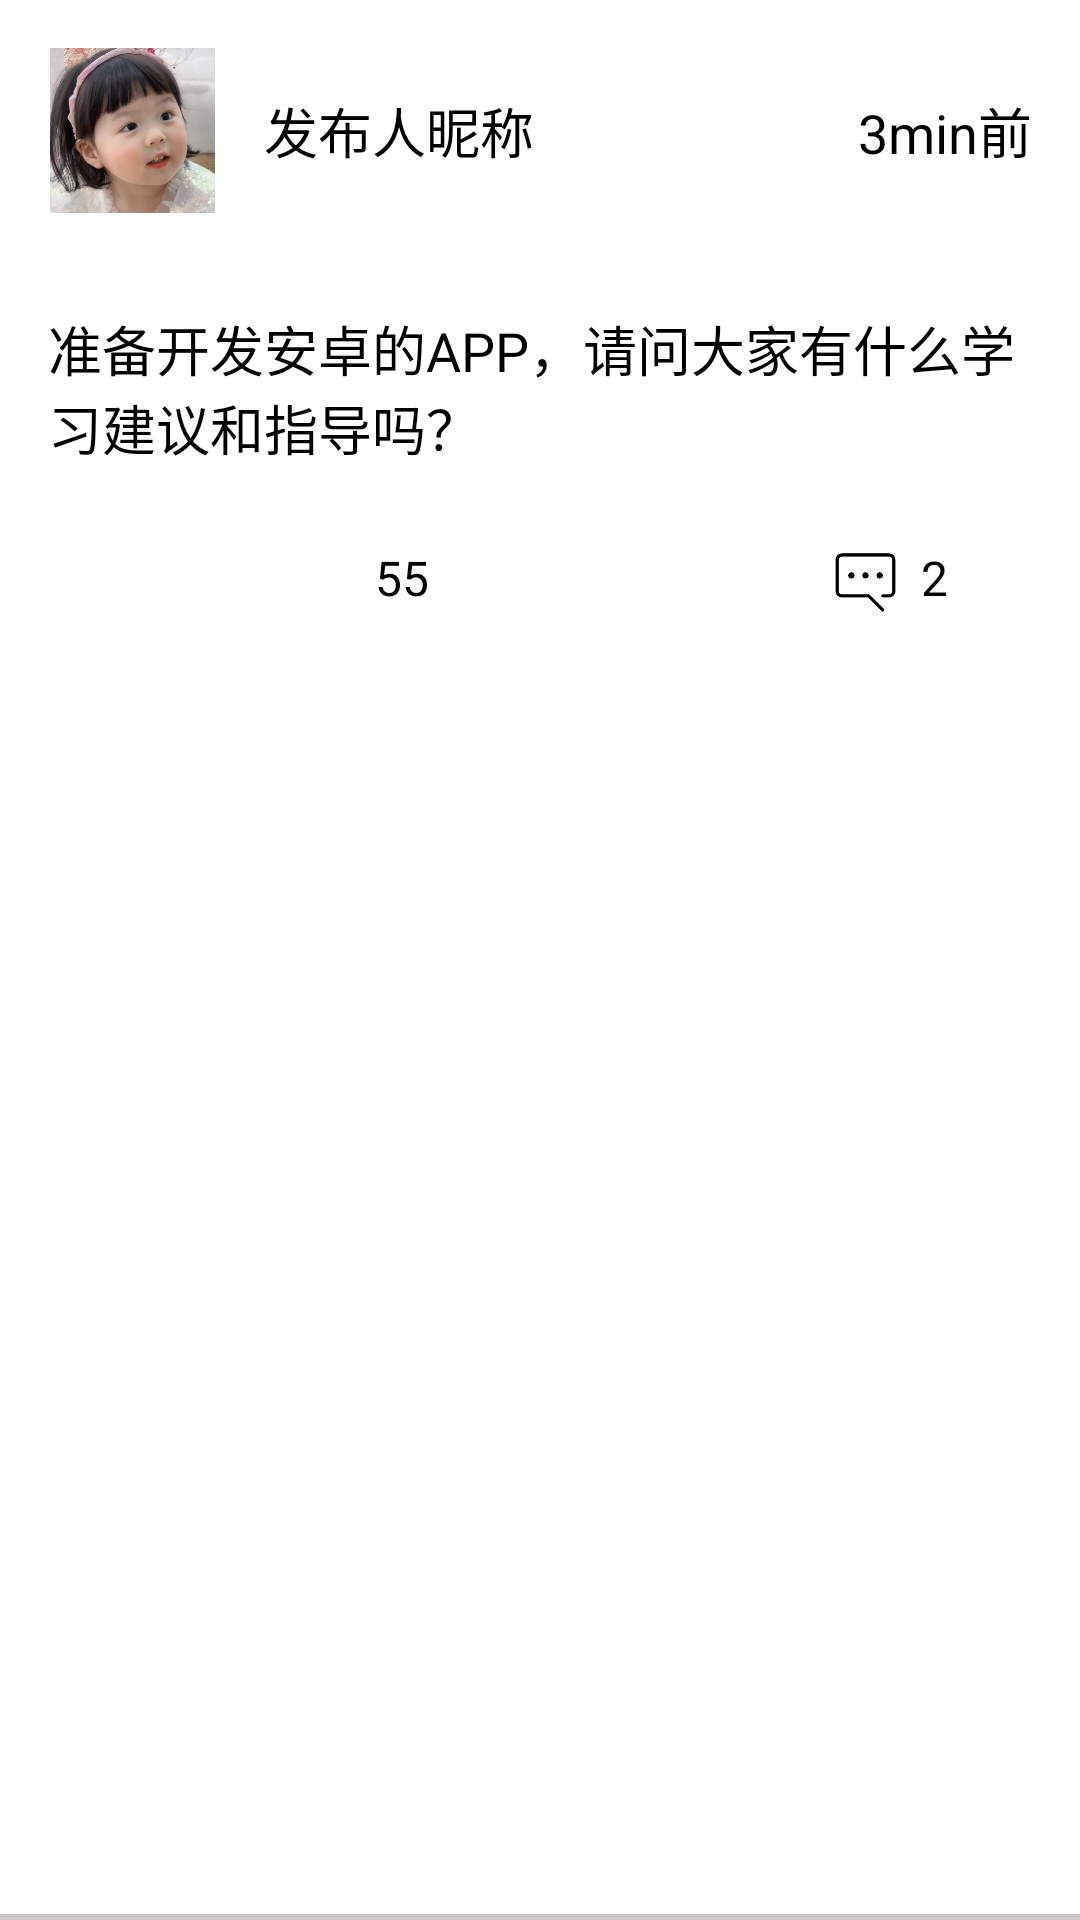

Screen size 1080 × 1920. Icon name, then its box in pixels as bbox=[x1, y1, x2, y2]:
head: bbox=[50, 48, 215, 213]
reply: bbox=[835, 553, 896, 612]
